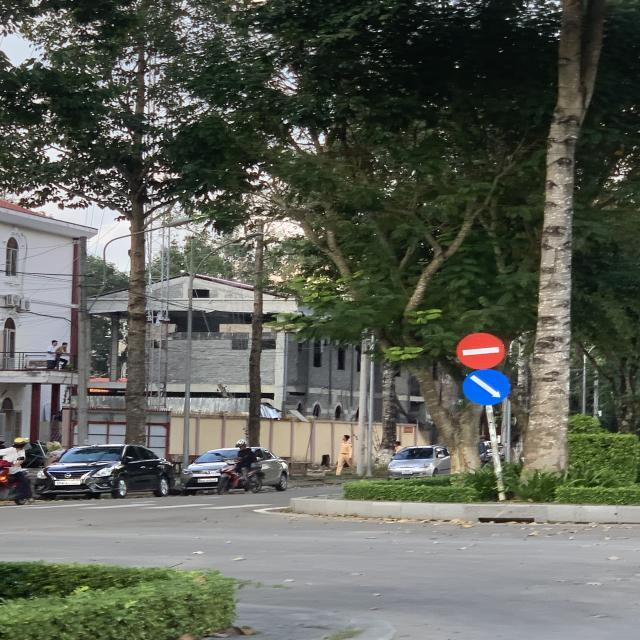Cam_Di_Nguoc_Chieu: (456, 333, 505, 369)
Chi_Huong_Di_Phai: (463, 370, 510, 404)
